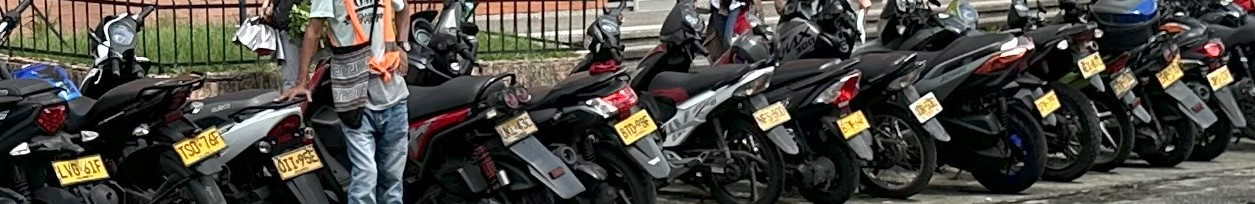number plate: (173, 127, 226, 165), (272, 145, 322, 179), (52, 155, 108, 185), (614, 110, 655, 144), (495, 112, 537, 145), (753, 102, 789, 130), (910, 92, 941, 122), (837, 110, 868, 138), (1155, 59, 1182, 88), (1077, 52, 1105, 78), (1034, 90, 1060, 116), (1206, 66, 1233, 90)
